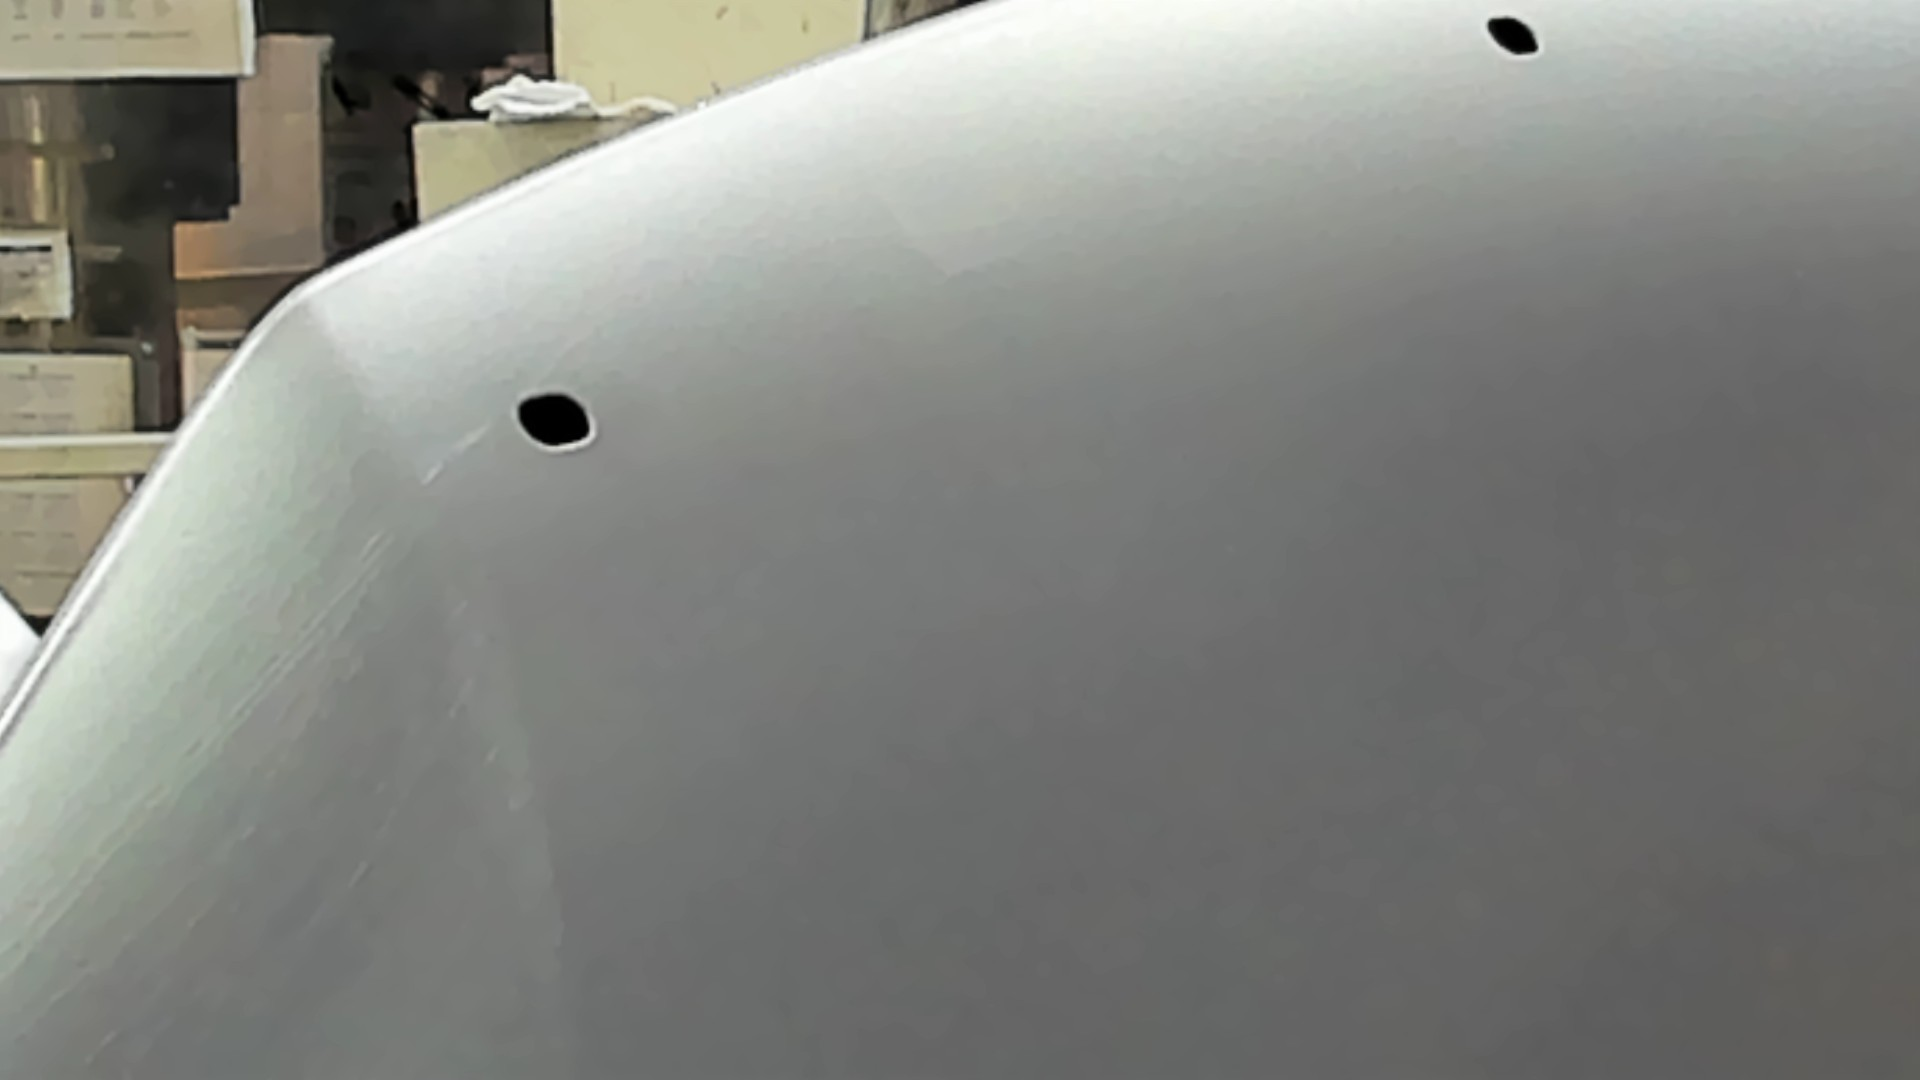amorfo: (513, 390, 597, 456), (1478, 9, 1542, 65)
capo: (735, 117, 1920, 1080)
